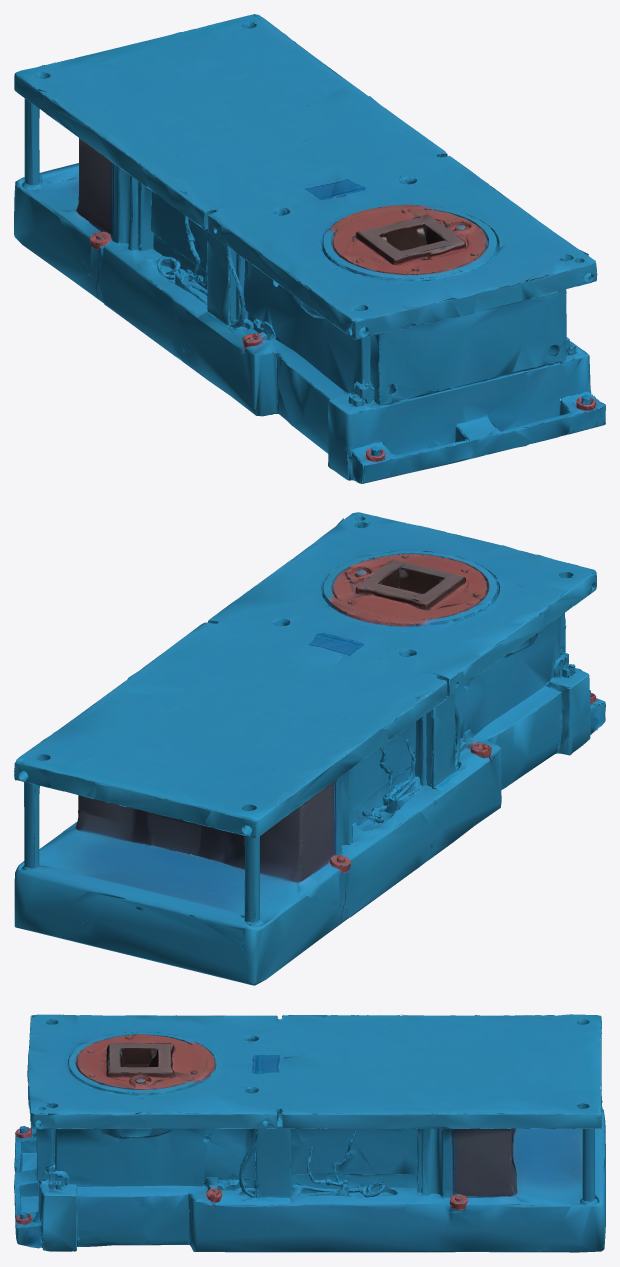
File: rotary.glb
3 renders of one model, top to bottom at view 1: azimuth 30°, elevation 25°; view 2: azimuth 150°, elevation 25°; view 3: azimuth 270°, elevation 25°, orthographic. The views are drawn at different scales.
Visible parts, largest first — view 1: model; view 2: model; view 3: model.
Boxes of the visible parts, x1,y1,x2,y2 form: model: [14, 14, 605, 483]; model: [14, 512, 605, 985]; model: [14, 1014, 605, 1252].
Size of the model in its own units: 0.8028 by 0.5196 by 1.9.
Materials: 1 (1 with a texture image).
